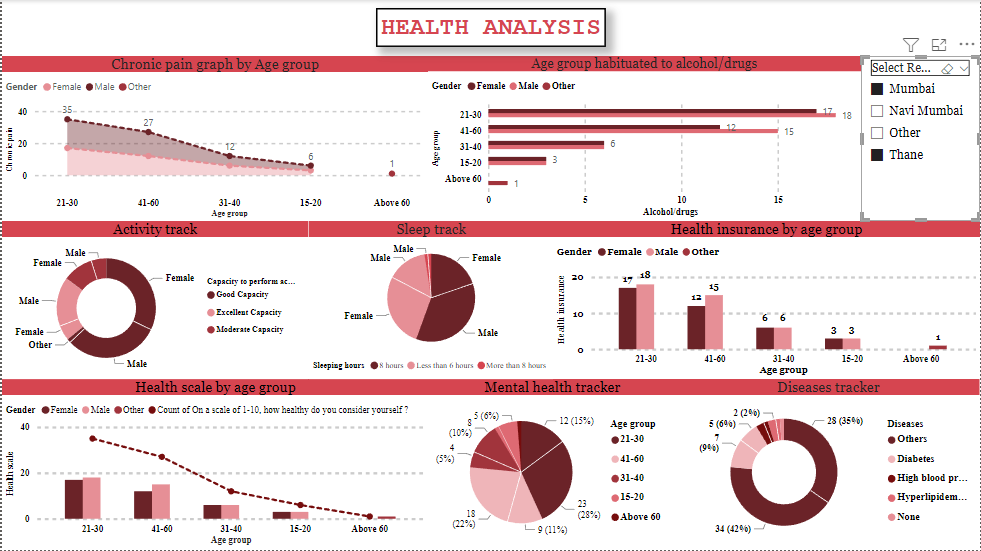

This screenshot's page, from the dashboard's own definition file:
{"tool":"powerbi","page":{"name":"Page 1","canvas":[1280,720],"ordinal":0},"visuals":[{"type":"clusteredColumnChart","title":"Health insurance by age group","fields":{"Series":["Health Analysis.Gender"],"Category":["Health Analysis.Age group"],"Y":["CountNonNull(Health Analysis.Do you have a health insurance ? )"]},"box":[721.3,289.5,558.7,206.6],"z":0},{"type":"slicer","fields":{"Values":["Health Analysis.Select your region of residence"]},"box":[1124.6,73.9,155.1,215.9],"z":1000},{"type":"lineClusteredColumnComboChart","title":"Health scale by age group","fields":{"Category":["Health Analysis.Age group"],"Series":["Health Analysis.Gender"],"Y":["CountNonNull(Health Analysis.On a scale of 1-10, how healthy do you consider yourself ?)"],"Y2":["CountNonNull(Health Analysis.On a scale of 1-10, how healthy do you consider yourself ?)"]},"box":[0,496.1,558.7,223.5],"z":2000},{"type":"stackedAreaChart","title":"Chronic pain graph by Age group ","fields":{"Category":["Health Analysis.Age group"],"Y":["CountNonNull(Health Analysis.Do you experience any chronic pain ?)"],"Series":["Health Analysis.Gender"]},"box":[0,73.4,558.3,216.1],"z":3000},{"type":"donutChart","title":"Activity track","fields":{"Category":["Health Analysis.In your opinion, at what capacity can you perform everyday activities ? "],"Series":["Health Analysis.Gender"],"Y":["CountNonNull(Health Analysis.Gender)"]},"box":[0,289.5,401.3,206.6],"z":4000},{"type":"clusteredBarChart","title":"Age group  habituated to alcohol/drugs","fields":{"Y":["CountNonNull(Health Analysis.Are you habituated to alcohol/drugs ?)"],"Series":["Health Analysis.Gender"],"Category":["Health Analysis.Age group"]},"box":[558.3,73.4,566.6,216.1],"z":5000},{"type":"pieChart","title":"Mental health tracker","fields":{"Category":["Health Analysis.Age group"],"Y":["CountNonNull(Health Analysis.Does your mental well being has an affect on your physical health ?)"],"Series":["Health Analysis.Does your mental well being has an affect on your physical health ?"]},"box":[558.3,495.9,325.5,223],"z":6000},{"type":"donutChart","title":"Diseases tracker","fields":{"Series":["Health Analysis.Gender"],"Category":["Health Analysis.Do you have any hereditary conditions/ diseases ?"],"Y":["CountNonNull(Health Analysis.Do you have any hereditary conditions/ diseases ?)"]},"box":[883.8,495.9,396.2,223],"z":7000},{"type":"pieChart","title":"Sleep track","fields":{"Category":["Health Analysis.How much hours of sleep do you get on a daily basis ? "],"Y":["CountNonNull(Health Analysis.Gender)"],"Series":["Health Analysis.Gender"]},"box":[401.3,289.5,320,206.6],"z":8000},{"type":"shape","box":[489,11.1,300.6,51.3],"z":9000}]}

Visuals, with their boxes in screenshot pixels (x1, y1, x2, y2), scaled from the page's 1280x720 canvas onto the 981x551 screenshot:
"Health insurance by age group" clusteredColumnChart: region(553, 222, 980, 380)
slicer - Health Analysis.Select your region of residence: region(862, 57, 980, 222)
"Health scale by age group" lineClusteredColumnComboChart: region(0, 380, 428, 550)
"Chronic pain graph by Age group " stackedAreaChart: region(0, 56, 428, 222)
"Activity track" donutChart: region(0, 222, 308, 380)
"Age group  habituated to alcohol/drugs" clusteredBarChart: region(428, 56, 862, 222)
"Mental health tracker" pieChart: region(428, 380, 677, 550)
"Diseases tracker" donutChart: region(677, 380, 980, 550)
"Sleep track" pieChart: region(308, 222, 553, 380)
shape: region(375, 8, 605, 48)
